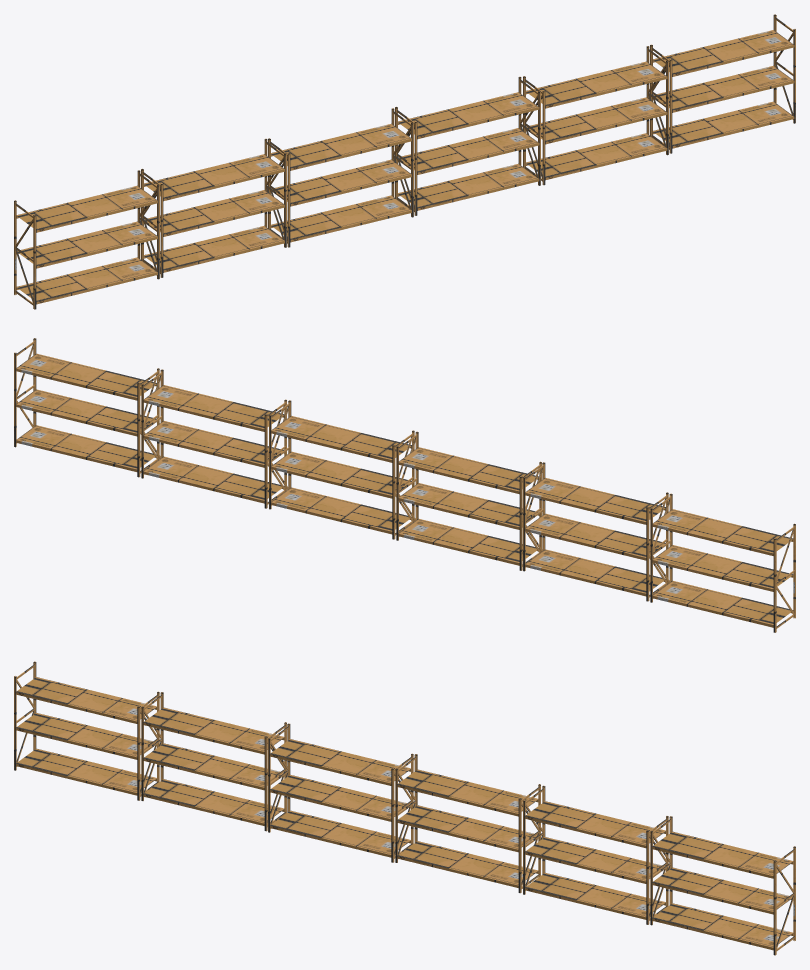
File: rakonly.obj
3 views of the same model, one above another, from view 1: azimuth 30°, elevation 25°; view 2: azimuth 150°, elevation 25°; view 3: azimuth 330°, elevation 25° (orthographic).
Parts seen in each view (by area): view 1: Shelf_WarehouseShelfMaterial_0, Shelf_WarehouseShelfMaterial_0.004, Shelf_WarehouseShelfMaterial_0.002, Shelf_WarehouseShelfMaterial_0.005, Shelf_WarehouseShelfMaterial_0.001, Shelf_WarehouseShelfMaterial_0.003; view 2: Shelf_WarehouseShelfMaterial_0, Shelf_WarehouseShelfMaterial_0.001, Shelf_WarehouseShelfMaterial_0.005, Shelf_WarehouseShelfMaterial_0.002, Shelf_WarehouseShelfMaterial_0.004, Shelf_WarehouseShelfMaterial_0.003; view 3: Shelf_WarehouseShelfMaterial_0.005, Shelf_WarehouseShelfMaterial_0.002, Shelf_WarehouseShelfMaterial_0, Shelf_WarehouseShelfMaterial_0.004, Shelf_WarehouseShelfMaterial_0.003, Shelf_WarehouseShelfMaterial_0.001.
Boxes of the visible parts, bbox=[...] form: Shelf_WarehouseShelfMaterial_0: bbox=[14, 170, 159, 309]; Shelf_WarehouseShelfMaterial_0.004: bbox=[523, 46, 668, 185]; Shelf_WarehouseShelfMaterial_0.002: bbox=[395, 76, 540, 215]; Shelf_WarehouseShelfMaterial_0.005: bbox=[650, 14, 795, 153]; Shelf_WarehouseShelfMaterial_0.001: bbox=[141, 138, 286, 277]; Shelf_WarehouseShelfMaterial_0.003: bbox=[268, 108, 413, 247]; Shelf_WarehouseShelfMaterial_0: bbox=[650, 493, 795, 632]; Shelf_WarehouseShelfMaterial_0.001: bbox=[523, 462, 668, 601]; Shelf_WarehouseShelfMaterial_0.005: bbox=[14, 338, 159, 477]; Shelf_WarehouseShelfMaterial_0.002: bbox=[269, 400, 414, 539]; Shelf_WarehouseShelfMaterial_0.004: bbox=[141, 369, 286, 508]; Shelf_WarehouseShelfMaterial_0.003: bbox=[396, 431, 541, 570]; Shelf_WarehouseShelfMaterial_0.005: bbox=[650, 816, 795, 955]; Shelf_WarehouseShelfMaterial_0.002: bbox=[395, 754, 540, 893]; Shelf_WarehouseShelfMaterial_0: bbox=[14, 661, 159, 800]; Shelf_WarehouseShelfMaterial_0.004: bbox=[523, 785, 668, 924]; Shelf_WarehouseShelfMaterial_0.003: bbox=[268, 723, 413, 862]; Shelf_WarehouseShelfMaterial_0.001: bbox=[141, 692, 286, 831].
Bounding box in the file's own units: 30.89 × 3.65 × 1.45.
